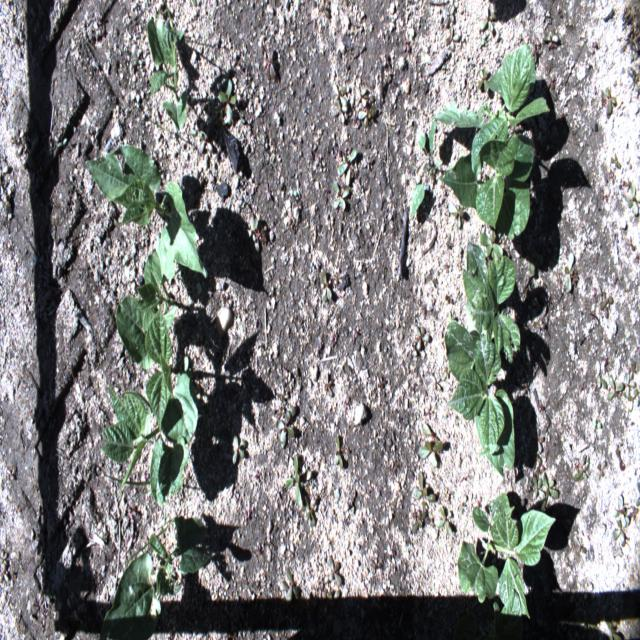crop: (88, 142, 206, 280), (439, 45, 549, 172), (100, 367, 198, 508), (101, 515, 211, 630), (458, 492, 558, 617), (445, 322, 516, 476), (439, 134, 536, 240), (460, 244, 520, 360), (114, 250, 165, 372), (147, 15, 190, 130), (144, 306, 174, 429), (490, 596, 522, 640)
weed: (410, 118, 442, 220), (284, 453, 304, 508), (218, 76, 238, 128), (541, 470, 562, 510), (278, 566, 299, 604), (277, 406, 295, 450), (412, 472, 436, 504), (242, 214, 259, 259), (336, 150, 357, 184), (478, 232, 504, 259), (418, 440, 445, 465), (328, 180, 350, 210), (21, 134, 38, 168), (612, 494, 630, 526), (444, 203, 466, 229), (331, 79, 348, 112), (573, 451, 591, 482), (411, 507, 430, 536), (605, 375, 626, 400), (328, 555, 342, 591), (599, 89, 618, 115), (437, 507, 454, 535), (326, 587, 341, 618), (593, 359, 607, 392), (564, 249, 574, 294), (482, 4, 496, 36), (198, 129, 214, 157), (599, 291, 615, 319), (357, 105, 377, 126), (613, 520, 627, 549), (628, 181, 638, 221), (477, 64, 489, 97), (233, 436, 246, 466), (302, 496, 316, 523), (352, 85, 370, 106), (322, 272, 333, 304), (415, 327, 431, 349), (430, 373, 448, 392), (531, 474, 542, 502), (335, 434, 344, 468), (541, 32, 560, 48), (422, 422, 438, 438), (324, 371, 333, 398), (626, 373, 636, 396), (596, 460, 608, 479), (532, 43, 542, 65), (528, 260, 536, 286), (268, 48, 274, 82), (458, 496, 468, 515), (629, 390, 638, 411), (57, 137, 67, 151), (593, 418, 603, 432), (0, 165, 9, 179), (188, 130, 204, 137), (0, 552, 8, 566), (630, 505, 638, 519), (631, 362, 636, 375)
